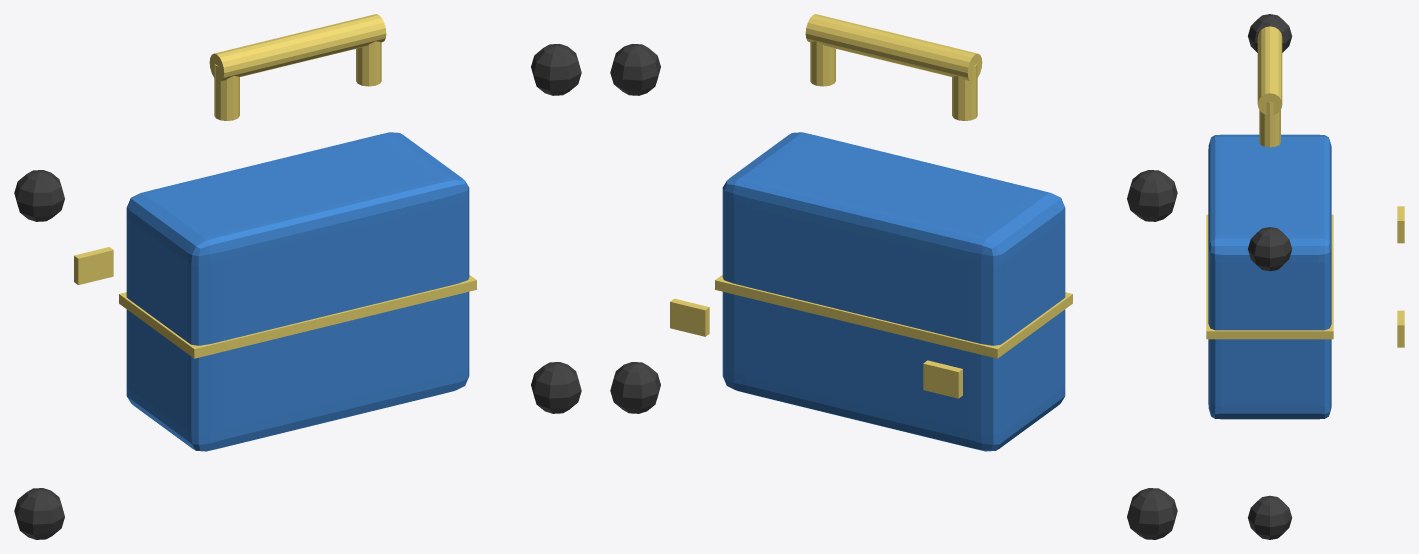
The model's file is suitcase.fbx.
3 views of the same model, side by side, from view 1: azimuth 30°, elevation 25°; view 2: azimuth 150°, elevation 25°; view 3: azimuth 270°, elevation 25° (orthographic). The views are drawn at different scales.
Parts seen in each view (by area): view 1: Suitcase; view 2: Suitcase; view 3: Suitcase.
Boxes of the visible parts, left/top/right/bottom form: Suitcase: left=14, top=14, right=581, bottom=539; Suitcase: left=610, top=14, right=1177, bottom=539; Suitcase: left=1206, top=14, right=1404, bottom=539.
Bounding box in the file's own units: 1.11 × 0.83 × 0.4015.
